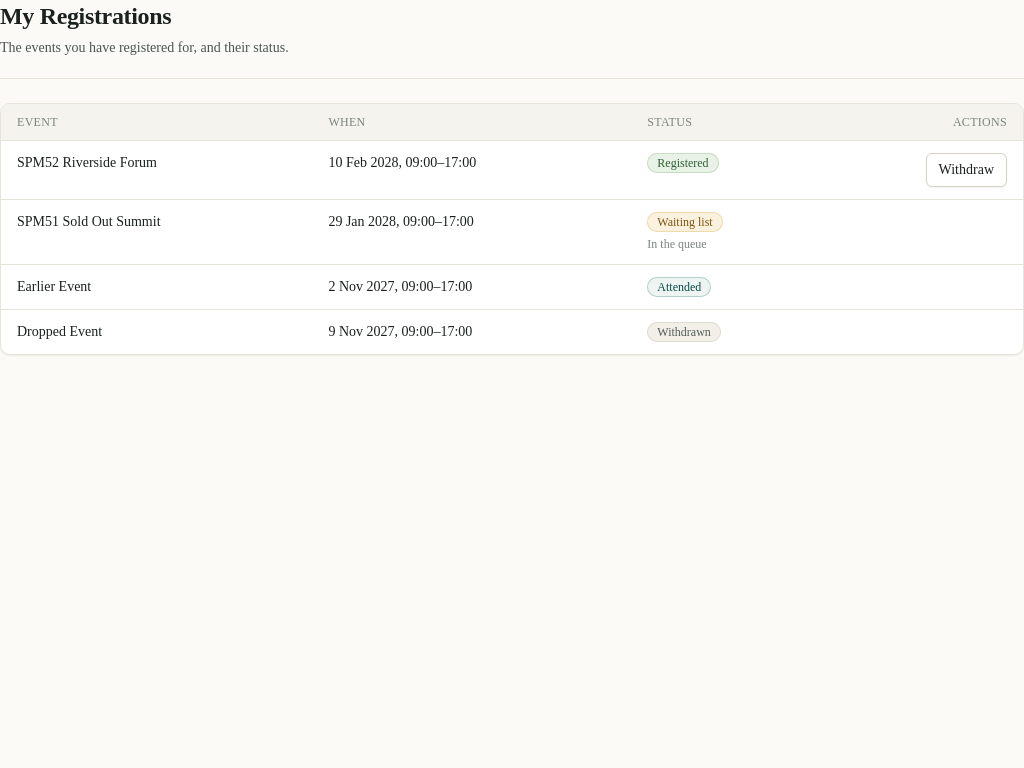
it: SPM-52 an attendee withdraws from My Registrations › [SPM-52][AC1][AC2] withdraws once confirmed, says so, and shows it as Withdrawn (AC1, AC2)
The image size is (1024, 768).
expect the table is shown: met, box [1, 104, 1023, 354]
Click the button "Withdraw": coordinates (966, 170) [926, 153, 1007, 187]
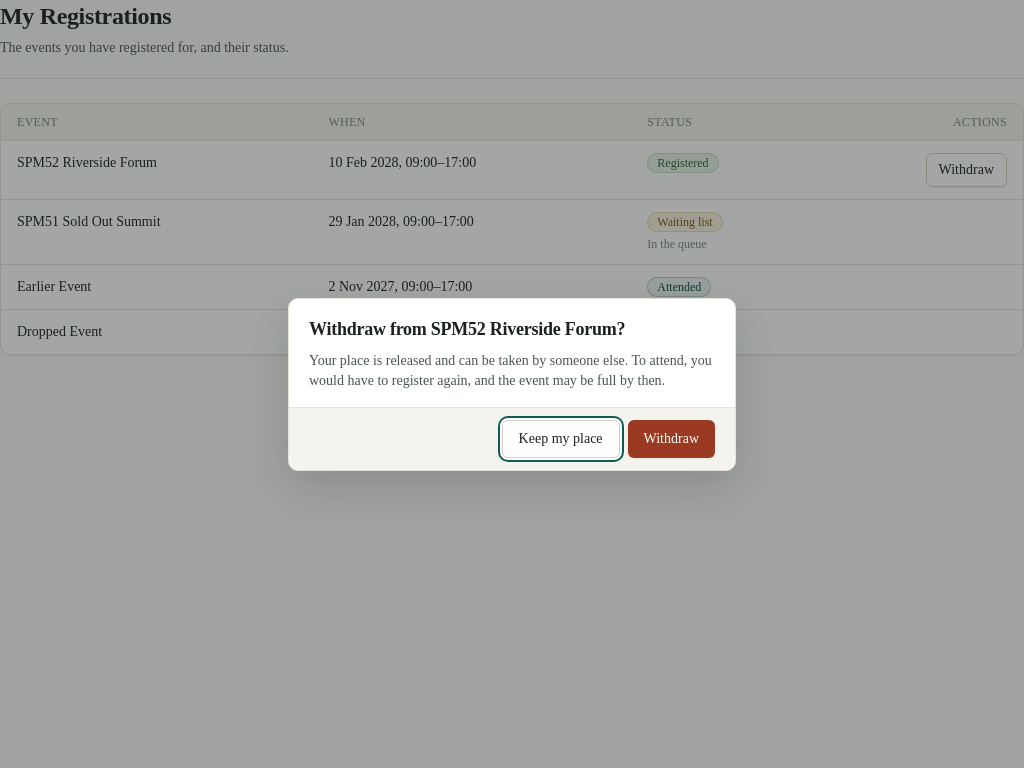
Click the button "Withdraw": coordinates (671, 438) [628, 420, 715, 458]
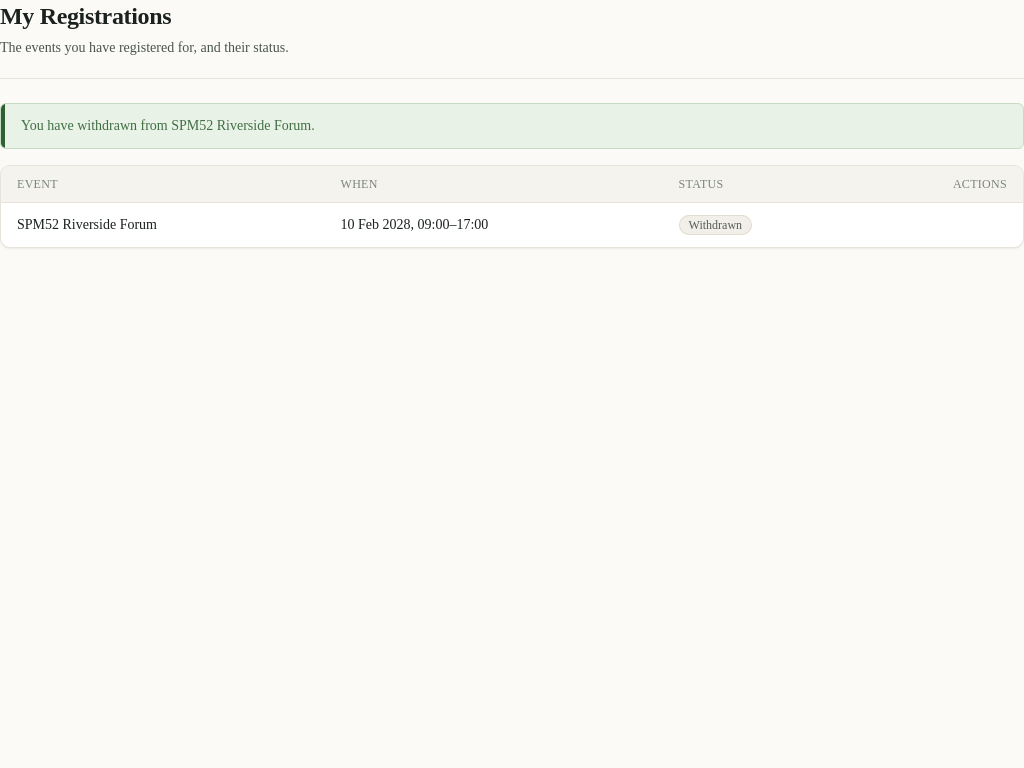
expect the text "You have withdrawn from SPM52 Riverside Forum." is shown: met, box [21, 116, 315, 136]
expect the text "Withdrawn" is shown: met, box [679, 215, 752, 235]
